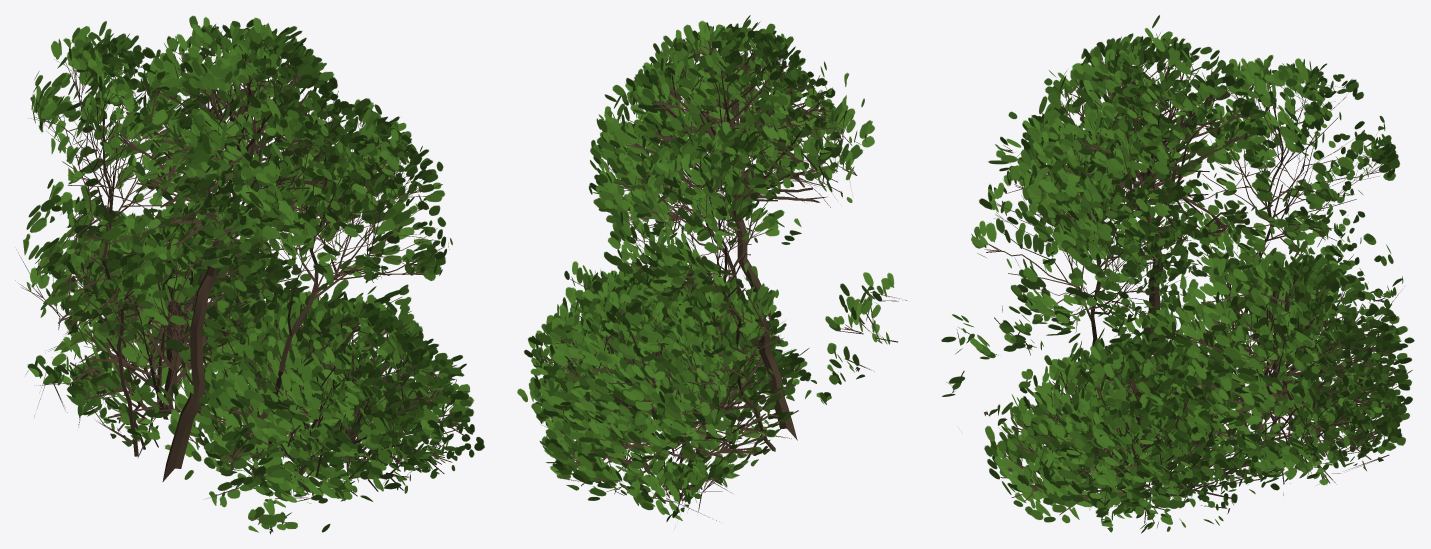
3 views of the same model, side by side, from view 1: azimuth 30°, elevation 25°; view 2: azimuth 150°, elevation 25°; view 3: azimuth 270°, elevation 25° (orthographic). The views are drawn at different scales.
Visible parts, largest first — view 1: oak 01.001_trunk_Mat.001_0.306; view 2: oak 01.001_trunk_Mat.001_0.306; view 3: oak 01.001_trunk_Mat.001_0.306.
Part boxes in pixels (<box>): oak 01.001_trunk_Mat.001_0.306: <box>15,15,484,534</box>; oak 01.001_trunk_Mat.001_0.306: <box>517,15,907,521</box>; oak 01.001_trunk_Mat.001_0.306: <box>941,15,1414,533</box>.
Size of the model in its own units: 3.09 by 4.16 by 4.2.
Materials: 2 (1 with a texture image).
